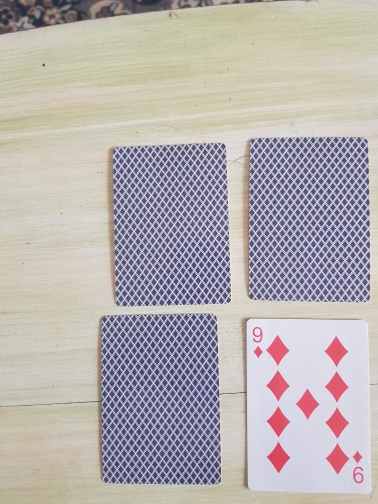nine: (245, 318, 373, 496)
